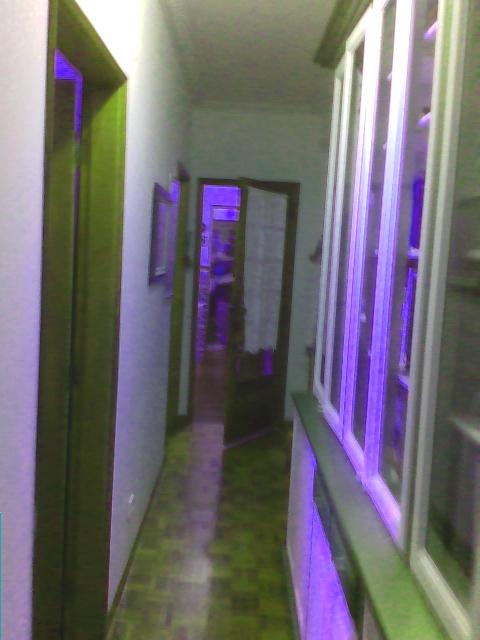semi_door: (189, 176, 299, 425)
